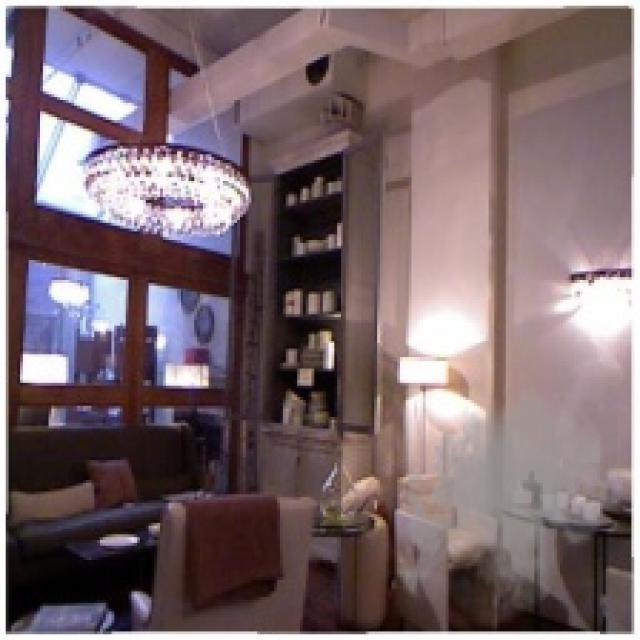Smoke: (391, 383, 626, 631)
